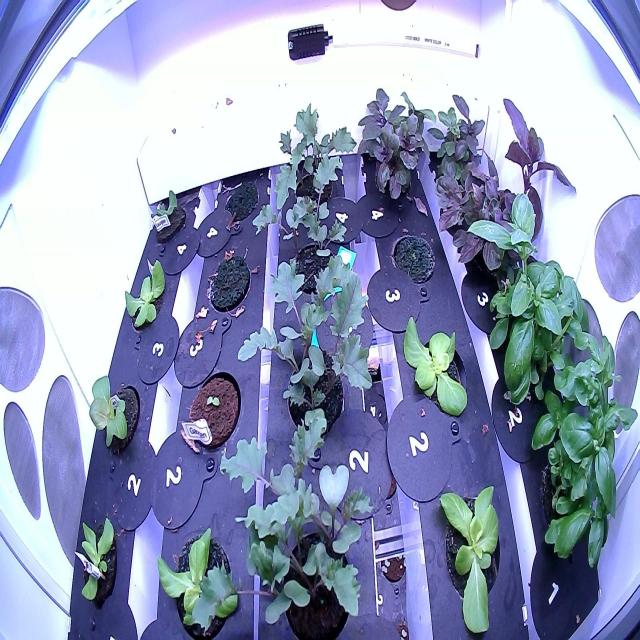germination: (183, 364, 244, 458)
young: (432, 475, 511, 635), (150, 518, 243, 639), (397, 310, 476, 430), (82, 362, 146, 466), (70, 508, 126, 619), (119, 251, 171, 338), (142, 178, 192, 252)
